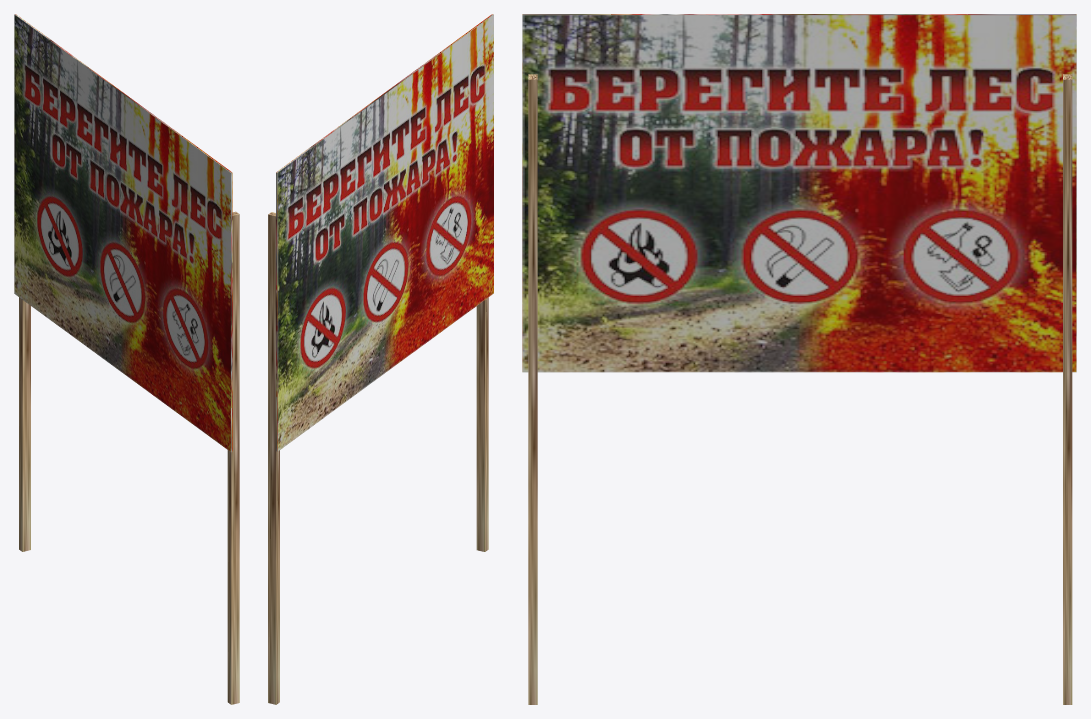
The model's file is r402_beregite_les1.FBX.
The picture shows the model from 3 angles, left to right: view 1: azimuth 30°, elevation 25°; view 2: azimuth 150°, elevation 25°; view 3: azimuth 270°, elevation 25°; orthographic projection. The views are drawn at different scales.
Visible parts, largest first — view 1: r402_beregite_les1; view 2: r402_beregite_les1; view 3: r402_beregite_les1.
Boxes of the visible parts, x1=… form: r402_beregite_les1: x1=14, y1=14, x2=239, y2=704; r402_beregite_les1: x1=268, y1=14, x2=493, y2=704; r402_beregite_les1: x1=522, y1=14, x2=1076, y2=704.
Size of the model in its own units: 6.74 by 226 by 307.
